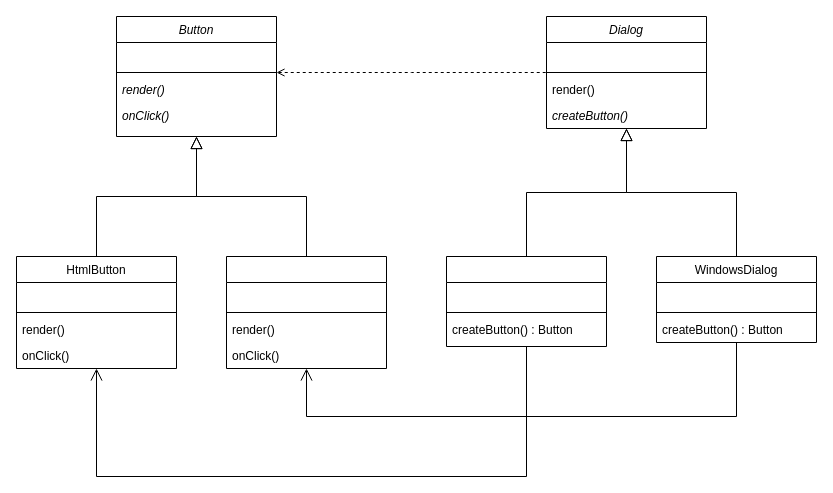
Image size: 833x493. Some labels were removed from this diagram. Each missing label, with the box of its shape:
HtmlDialog: (446, 256, 606, 346)
WindowsButton: (226, 256, 386, 368)
